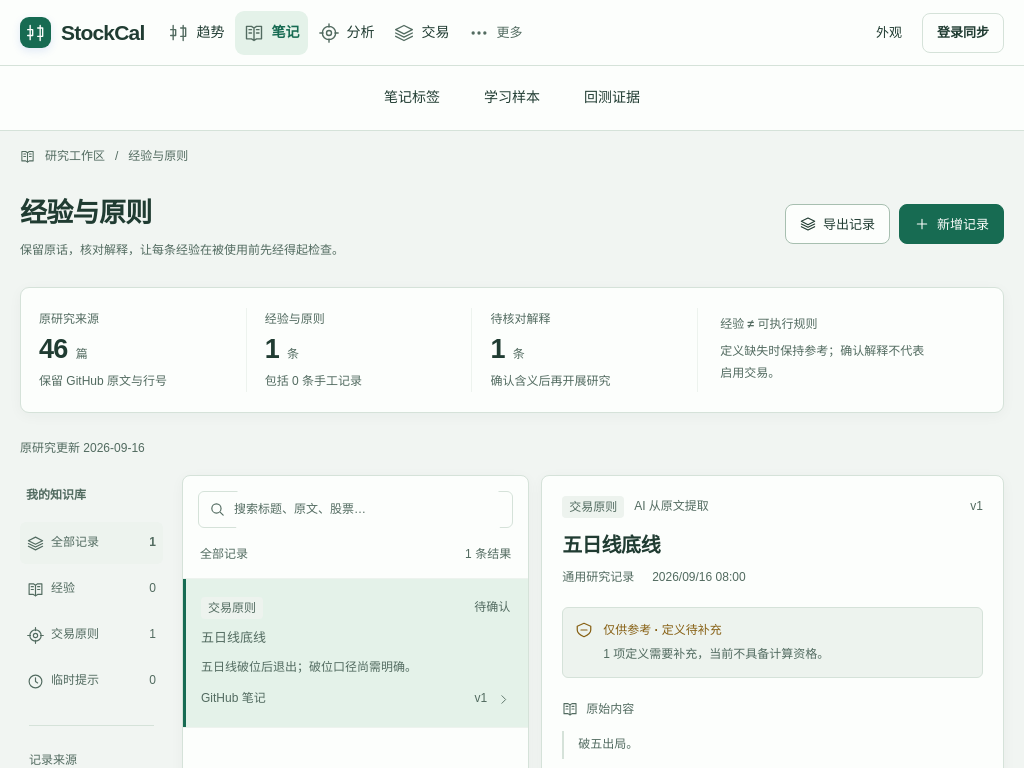
Test: experience workbench › surfaces write errors and leaves the edit form and previous stored state intact
Click the button "新增记录": (952, 224) 899,204 -> 1004,244
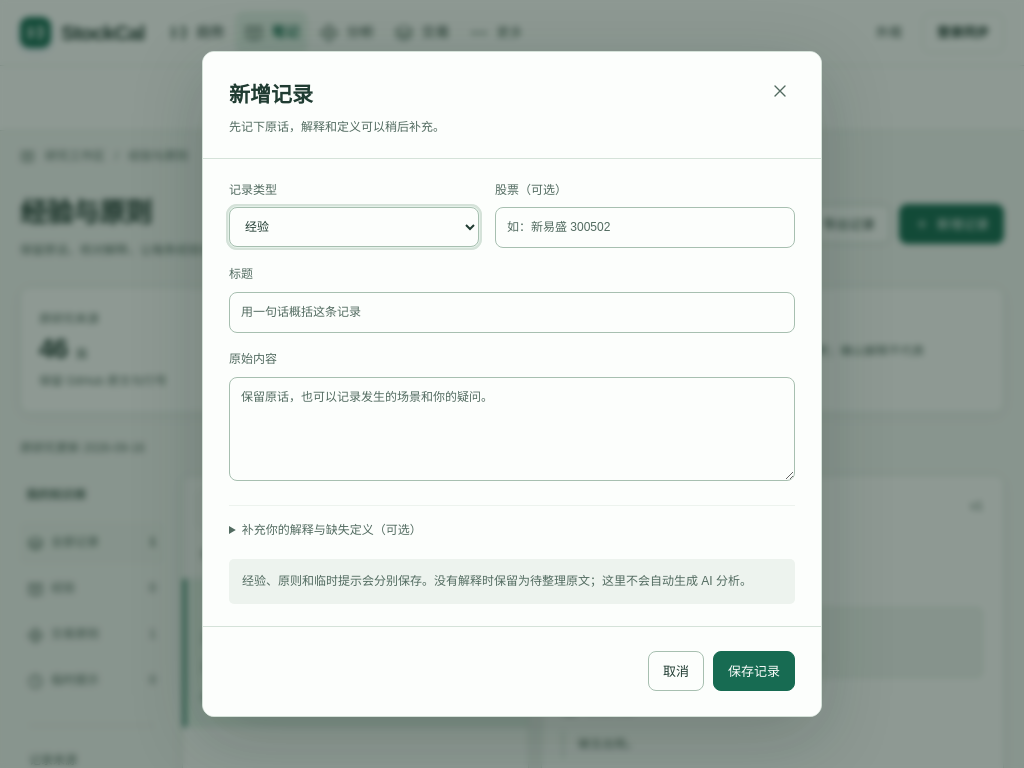
In the field labelled "标题": (512, 313) 229,292 -> 795,333, type "不能静默丢失"
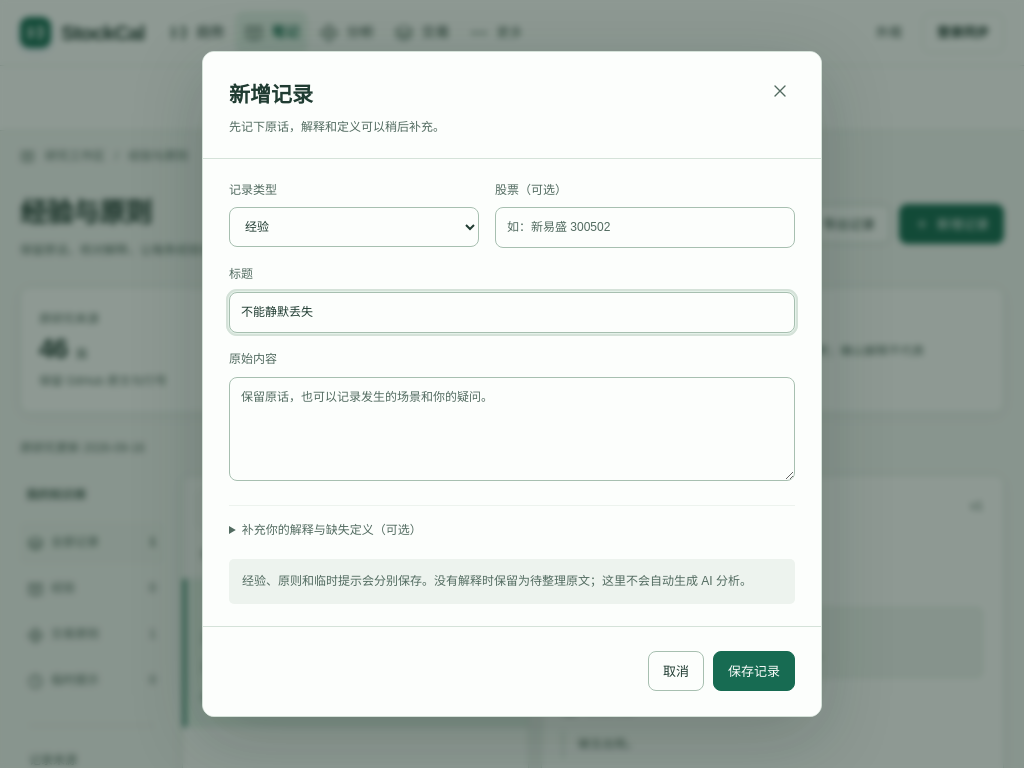
In the text box labelled "原始内容": (512, 429) 229,377 -> 795,481, type "保存失败时保留输入。"
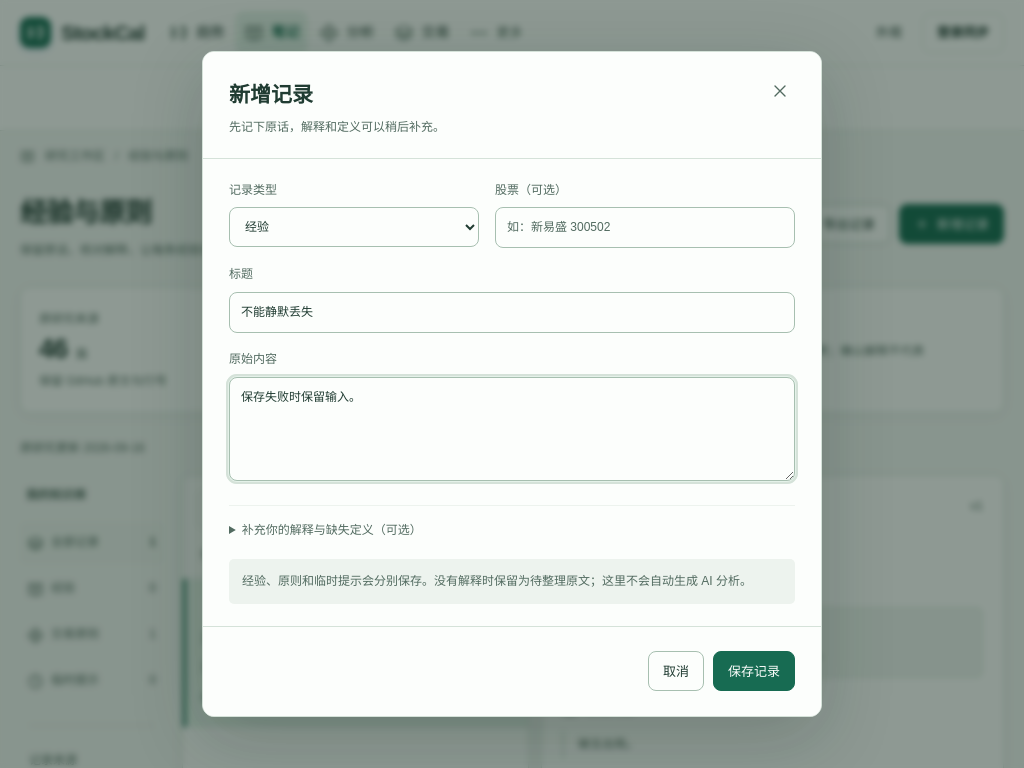
Click the button "保存记录": (754, 671) 713,651 -> 795,691
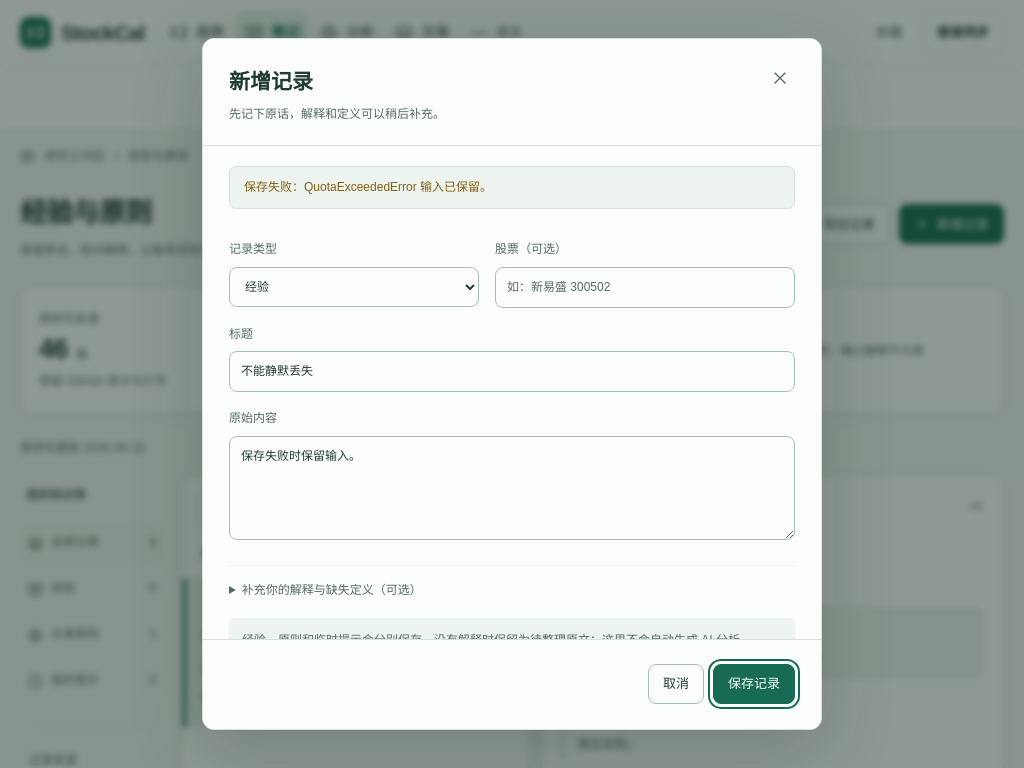
Now the message shows "保存失败", box 244,180 -> 492,194
